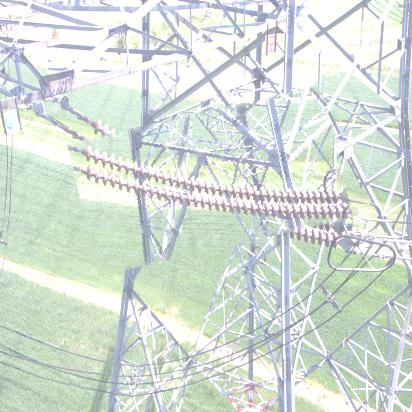insulator: (74, 99, 348, 264)
